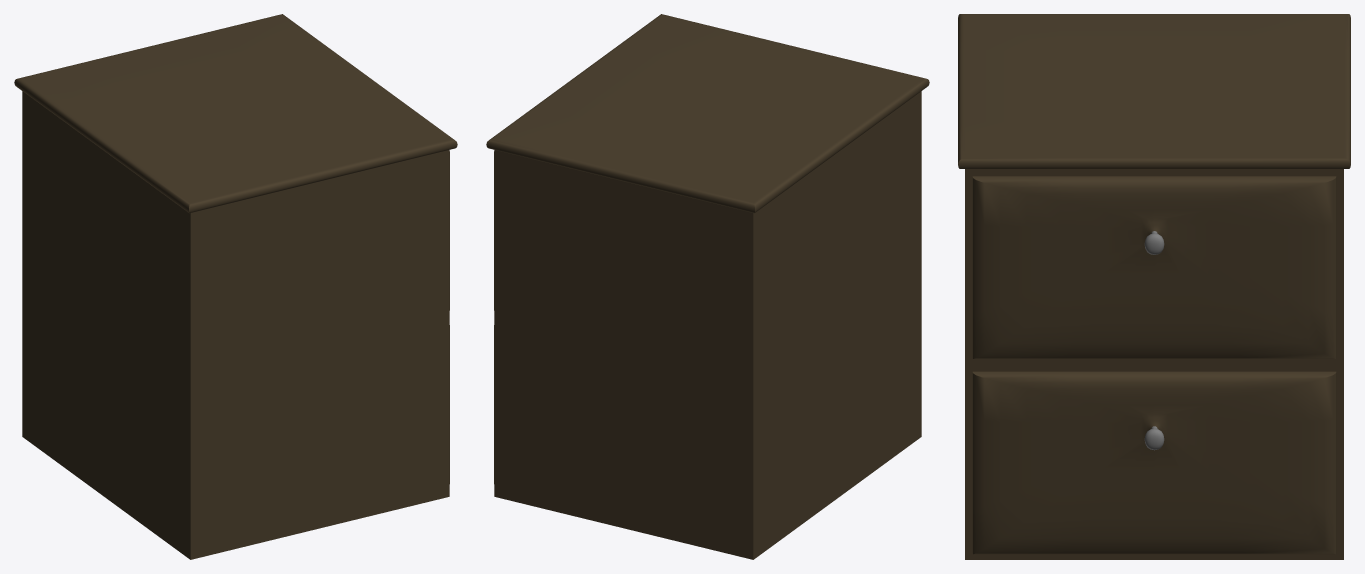
File: PROJECT DREAM - Bedroom - Bedside Cabinet.fbx
3 renders of one model, left to right at view 1: azimuth 30°, elevation 25°; view 2: azimuth 150°, elevation 25°; view 3: azimuth 270°, elevation 25°, orthographic. The views are drawn at different scales.
Parts seen in each view (by area): view 1: Bedroom - Bedside Cabnet; view 2: Bedroom - Bedside Cabnet; view 3: Bedroom - Bedside Cabnet.
Boxes of the visible parts, x1,y1,x2,y2 form: Bedroom - Bedside Cabnet: (14, 14, 457, 559); Bedroom - Bedside Cabnet: (486, 14, 929, 559); Bedroom - Bedside Cabnet: (958, 14, 1350, 559).
Bounding box in the file's own units: 92.73 × 105 × 93.28.
